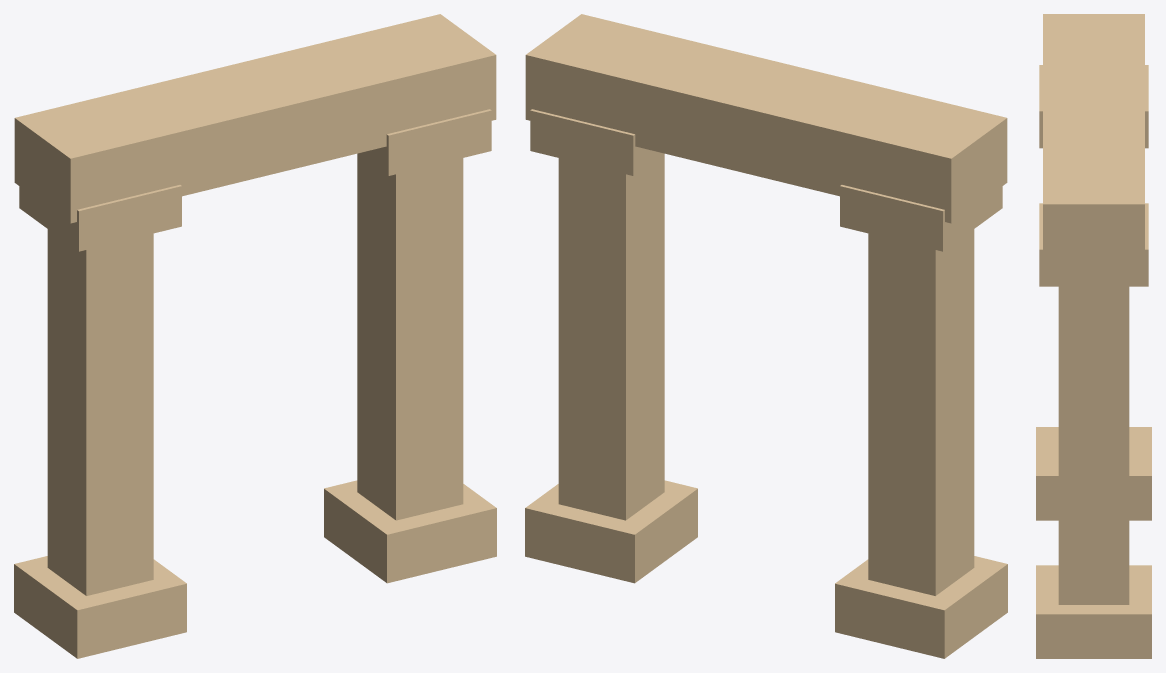
Rendered from sandstone_arch.glb.
The picture shows the model from 3 angles, left to right: view 1: azimuth 30°, elevation 25°; view 2: azimuth 150°, elevation 25°; view 3: azimuth 270°, elevation 25°; orthographic projection. The views are drawn at different scales.
Parts seen in each view (by area): view 1: column (×2), lintel, base (×2), capital (×2); view 2: column (×2), lintel, base (×2), capital (×2); view 3: lintel, column, base (×2), capital (×2).
Boxes of the visible parts, box(x1,y1,x2,y2) form: column (×2): box(47, 153, 463, 595); lintel: box(14, 14, 496, 223); base (×2): box(14, 480, 496, 658); capital (×2): box(19, 109, 491, 251); column (×2): box(558, 153, 974, 595); lintel: box(525, 14, 1007, 223); base (×2): box(525, 480, 1007, 658); capital (×2): box(530, 109, 1002, 251); lintel: box(1043, 14, 1144, 263); column: box(1058, 286, 1129, 604); base (×2): box(1036, 427, 1151, 658); capital (×2): box(1039, 65, 1148, 286).
Size of the model in its own units: 3.3 by 3.69 by 0.85.
